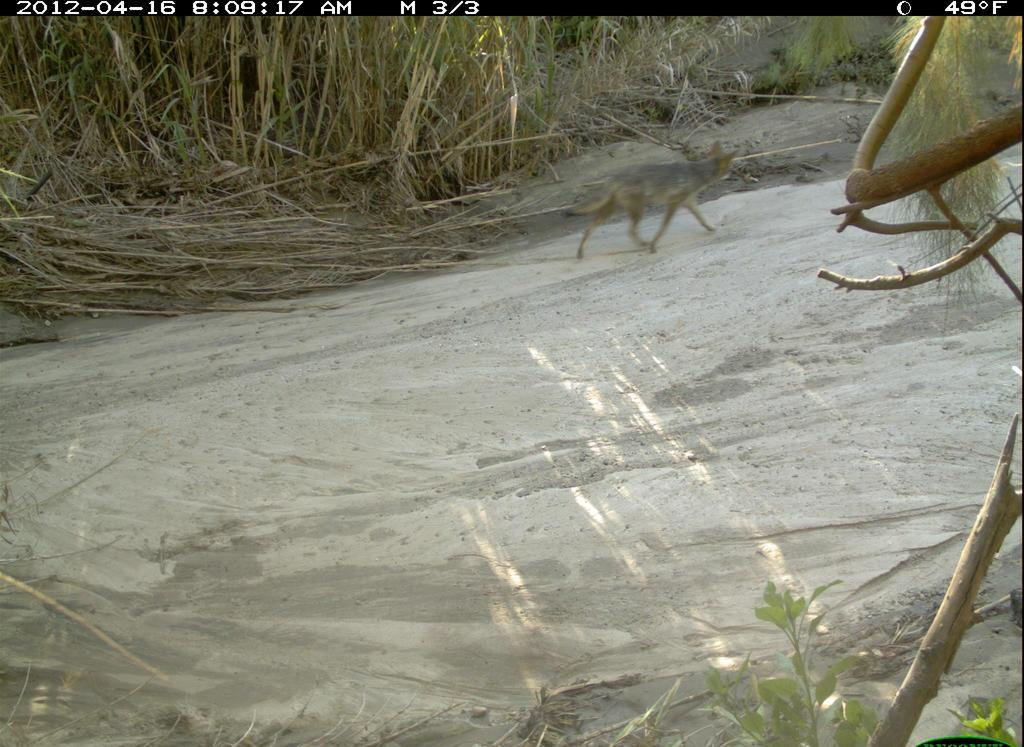coyote: (559, 141, 742, 265)
